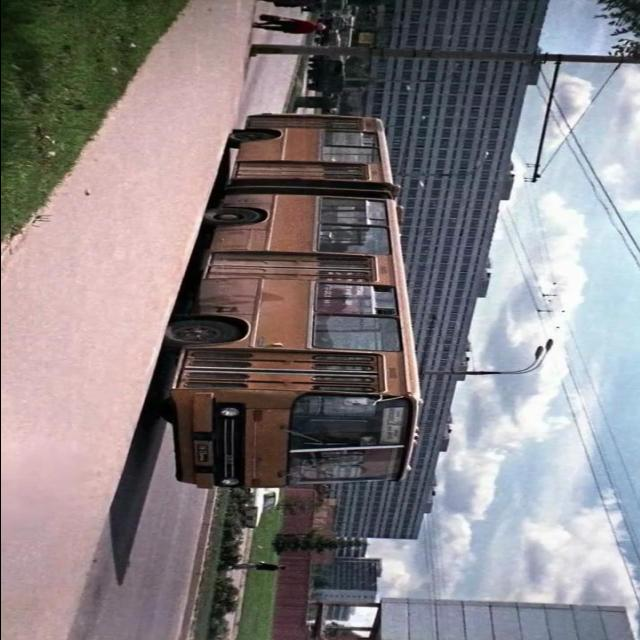bus: (154, 109, 428, 494)
